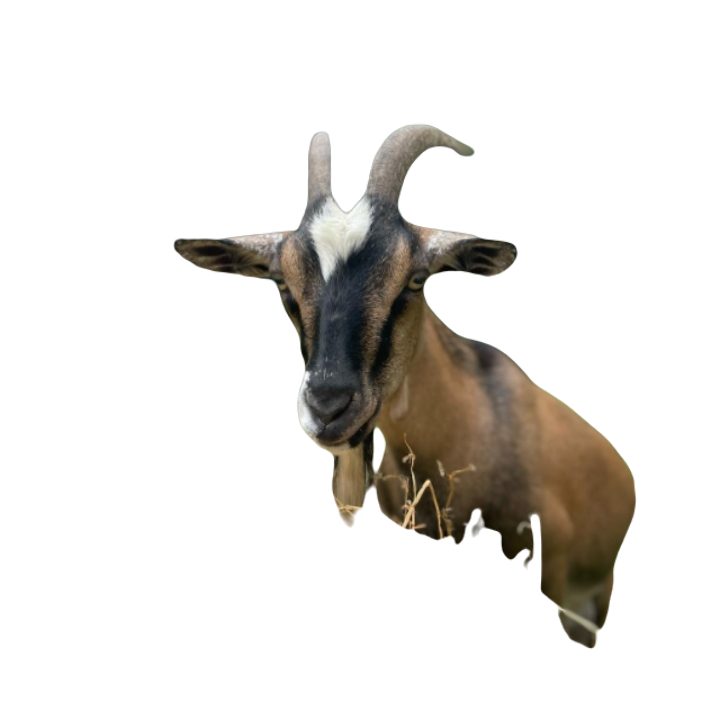Goat: (168, 125, 637, 651)
